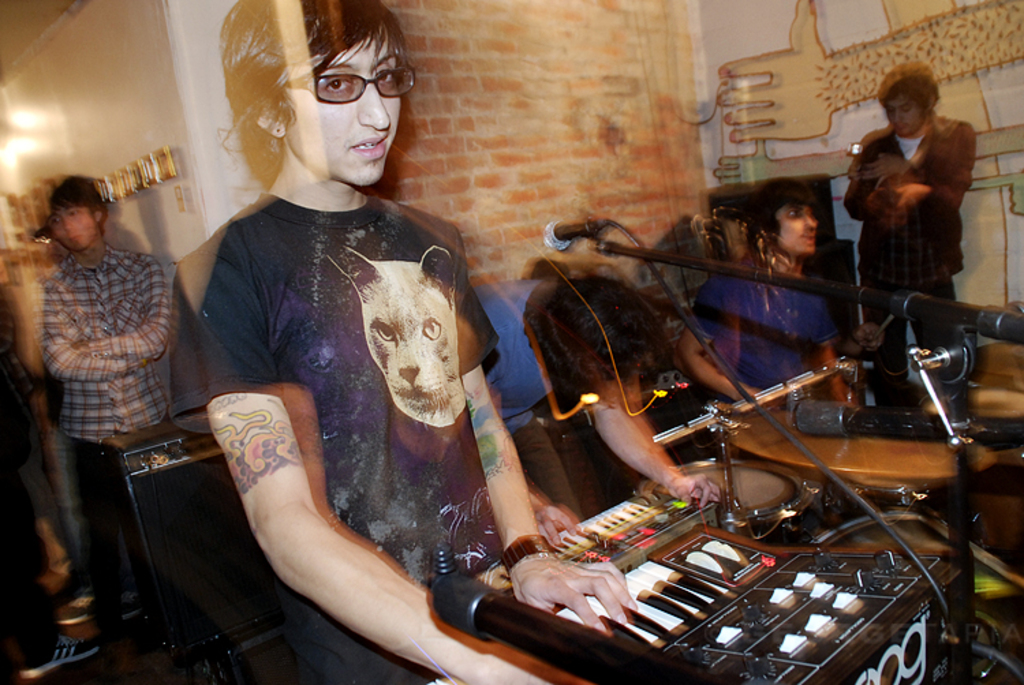Human-face: (280, 34, 406, 186), (56, 199, 96, 248), (773, 203, 811, 250), (881, 89, 922, 130)
